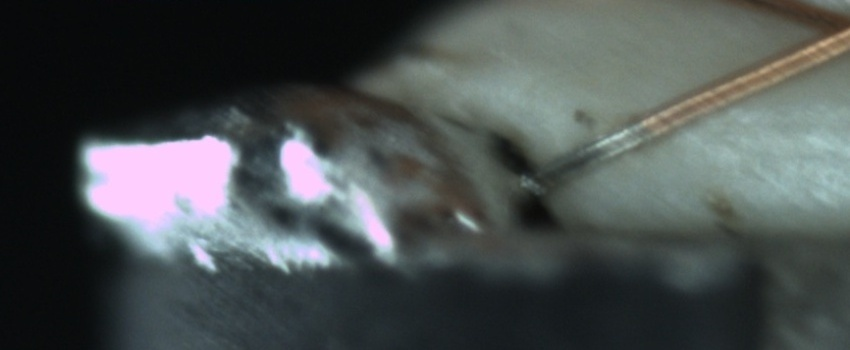CL: (793, 0, 850, 64)
TS: (523, 120, 651, 194)
